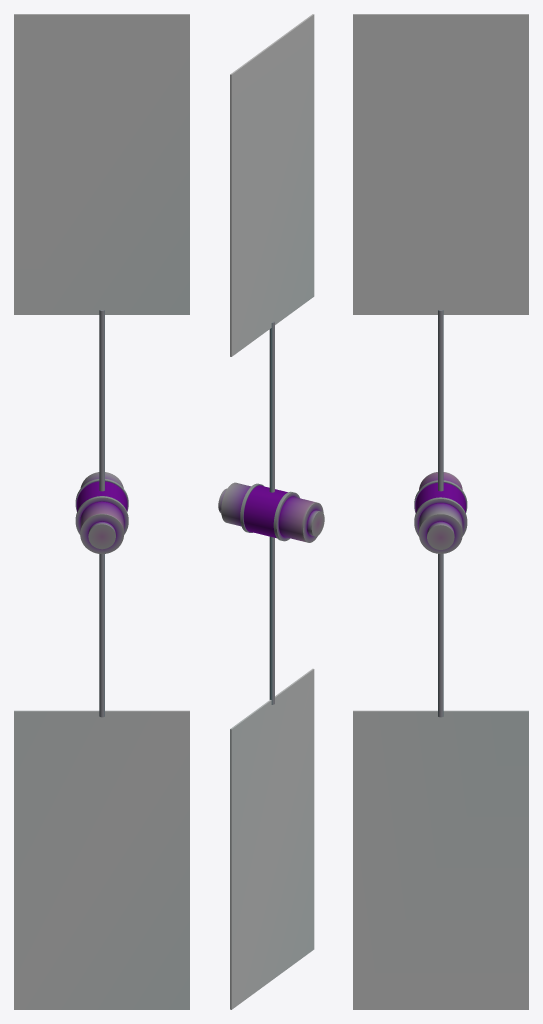
3 views of the same model, side by side, from view 1: azimuth 90°, elevation 25°; view 2: azimuth 150°, elevation 25°; view 3: azimuth 270°, elevation 25° (orthographic). The views are drawn at different scales.
Visible parts, largest first — view 1: panel, panel.001, stepped_barrel, rod; view 2: panel, panel.001, stepped_barrel, rod; view 3: panel, panel.001, stepped_barrel, rod.
Part boxes in pixels (left/top/right/bottom): panel: left=14, top=14, right=189, bottom=314; panel.001: left=14, top=710, right=189, bottom=1009; stepped_barrel: left=75, top=472, right=128, bottom=553; rod: left=99, top=310, right=104, bottom=717; panel: left=230, top=14, right=314, bottom=356; panel.001: left=230, top=668, right=314, bottom=1009; stepped_barrel: left=218, top=482, right=324, bottom=542; rod: left=269, top=321, right=274, bottom=704; panel: left=353, top=14, right=528, bottom=314; panel.001: left=353, top=710, right=528, bottom=1009; stepped_barrel: left=414, top=472, right=467, bottom=553; rod: left=438, top=310, right=443, bottom=717.
Size of the model in its own units: 1.26 by 12 by 1.92.
